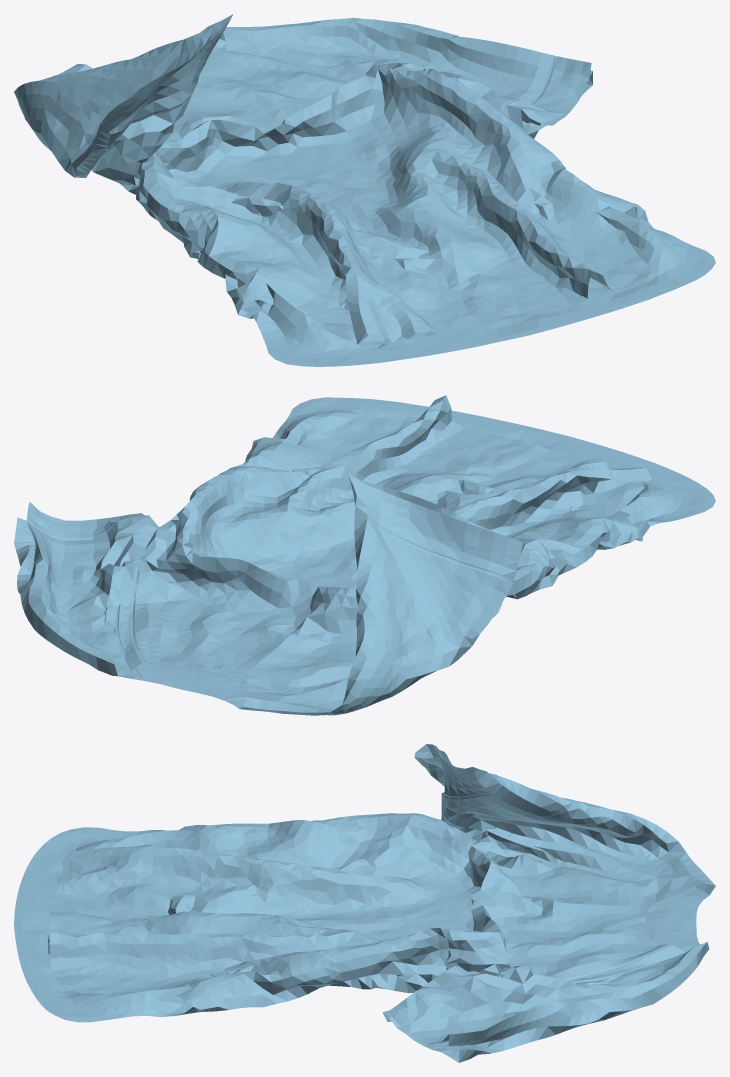
The model's file is frame_15.glb.
The picture shows the model from 3 angles, top to bottom: view 1: azimuth 30°, elevation 25°; view 2: azimuth 150°, elevation 25°; view 3: azimuth 270°, elevation 25°; orthographic projection. The views are drawn at different scales.
Parts seen in each view (by area): view 1: frame_15.obj; view 2: frame_15.obj; view 3: frame_15.obj.
Part boxes in pixels (x1,y1,x2,y2): frame_15.obj: [14, 14, 715, 366]; frame_15.obj: [14, 395, 715, 715]; frame_15.obj: [14, 744, 715, 1062].
Bounding box in the file's own units: 1.44 × 0.4151 × 1.83.
